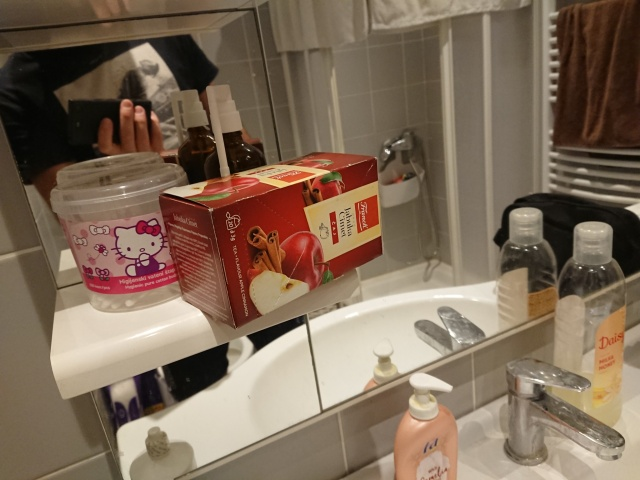Franck Apple Cinnamon Tea 60g: (155, 148, 387, 332)
